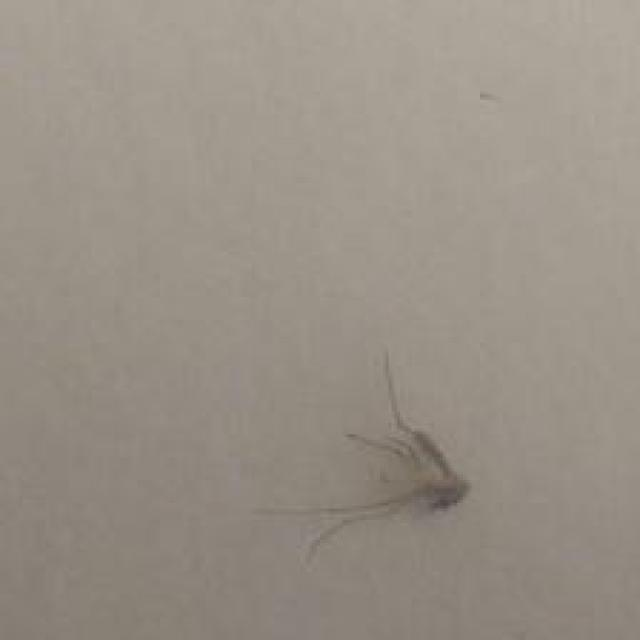Culex: (253, 347, 470, 564)
